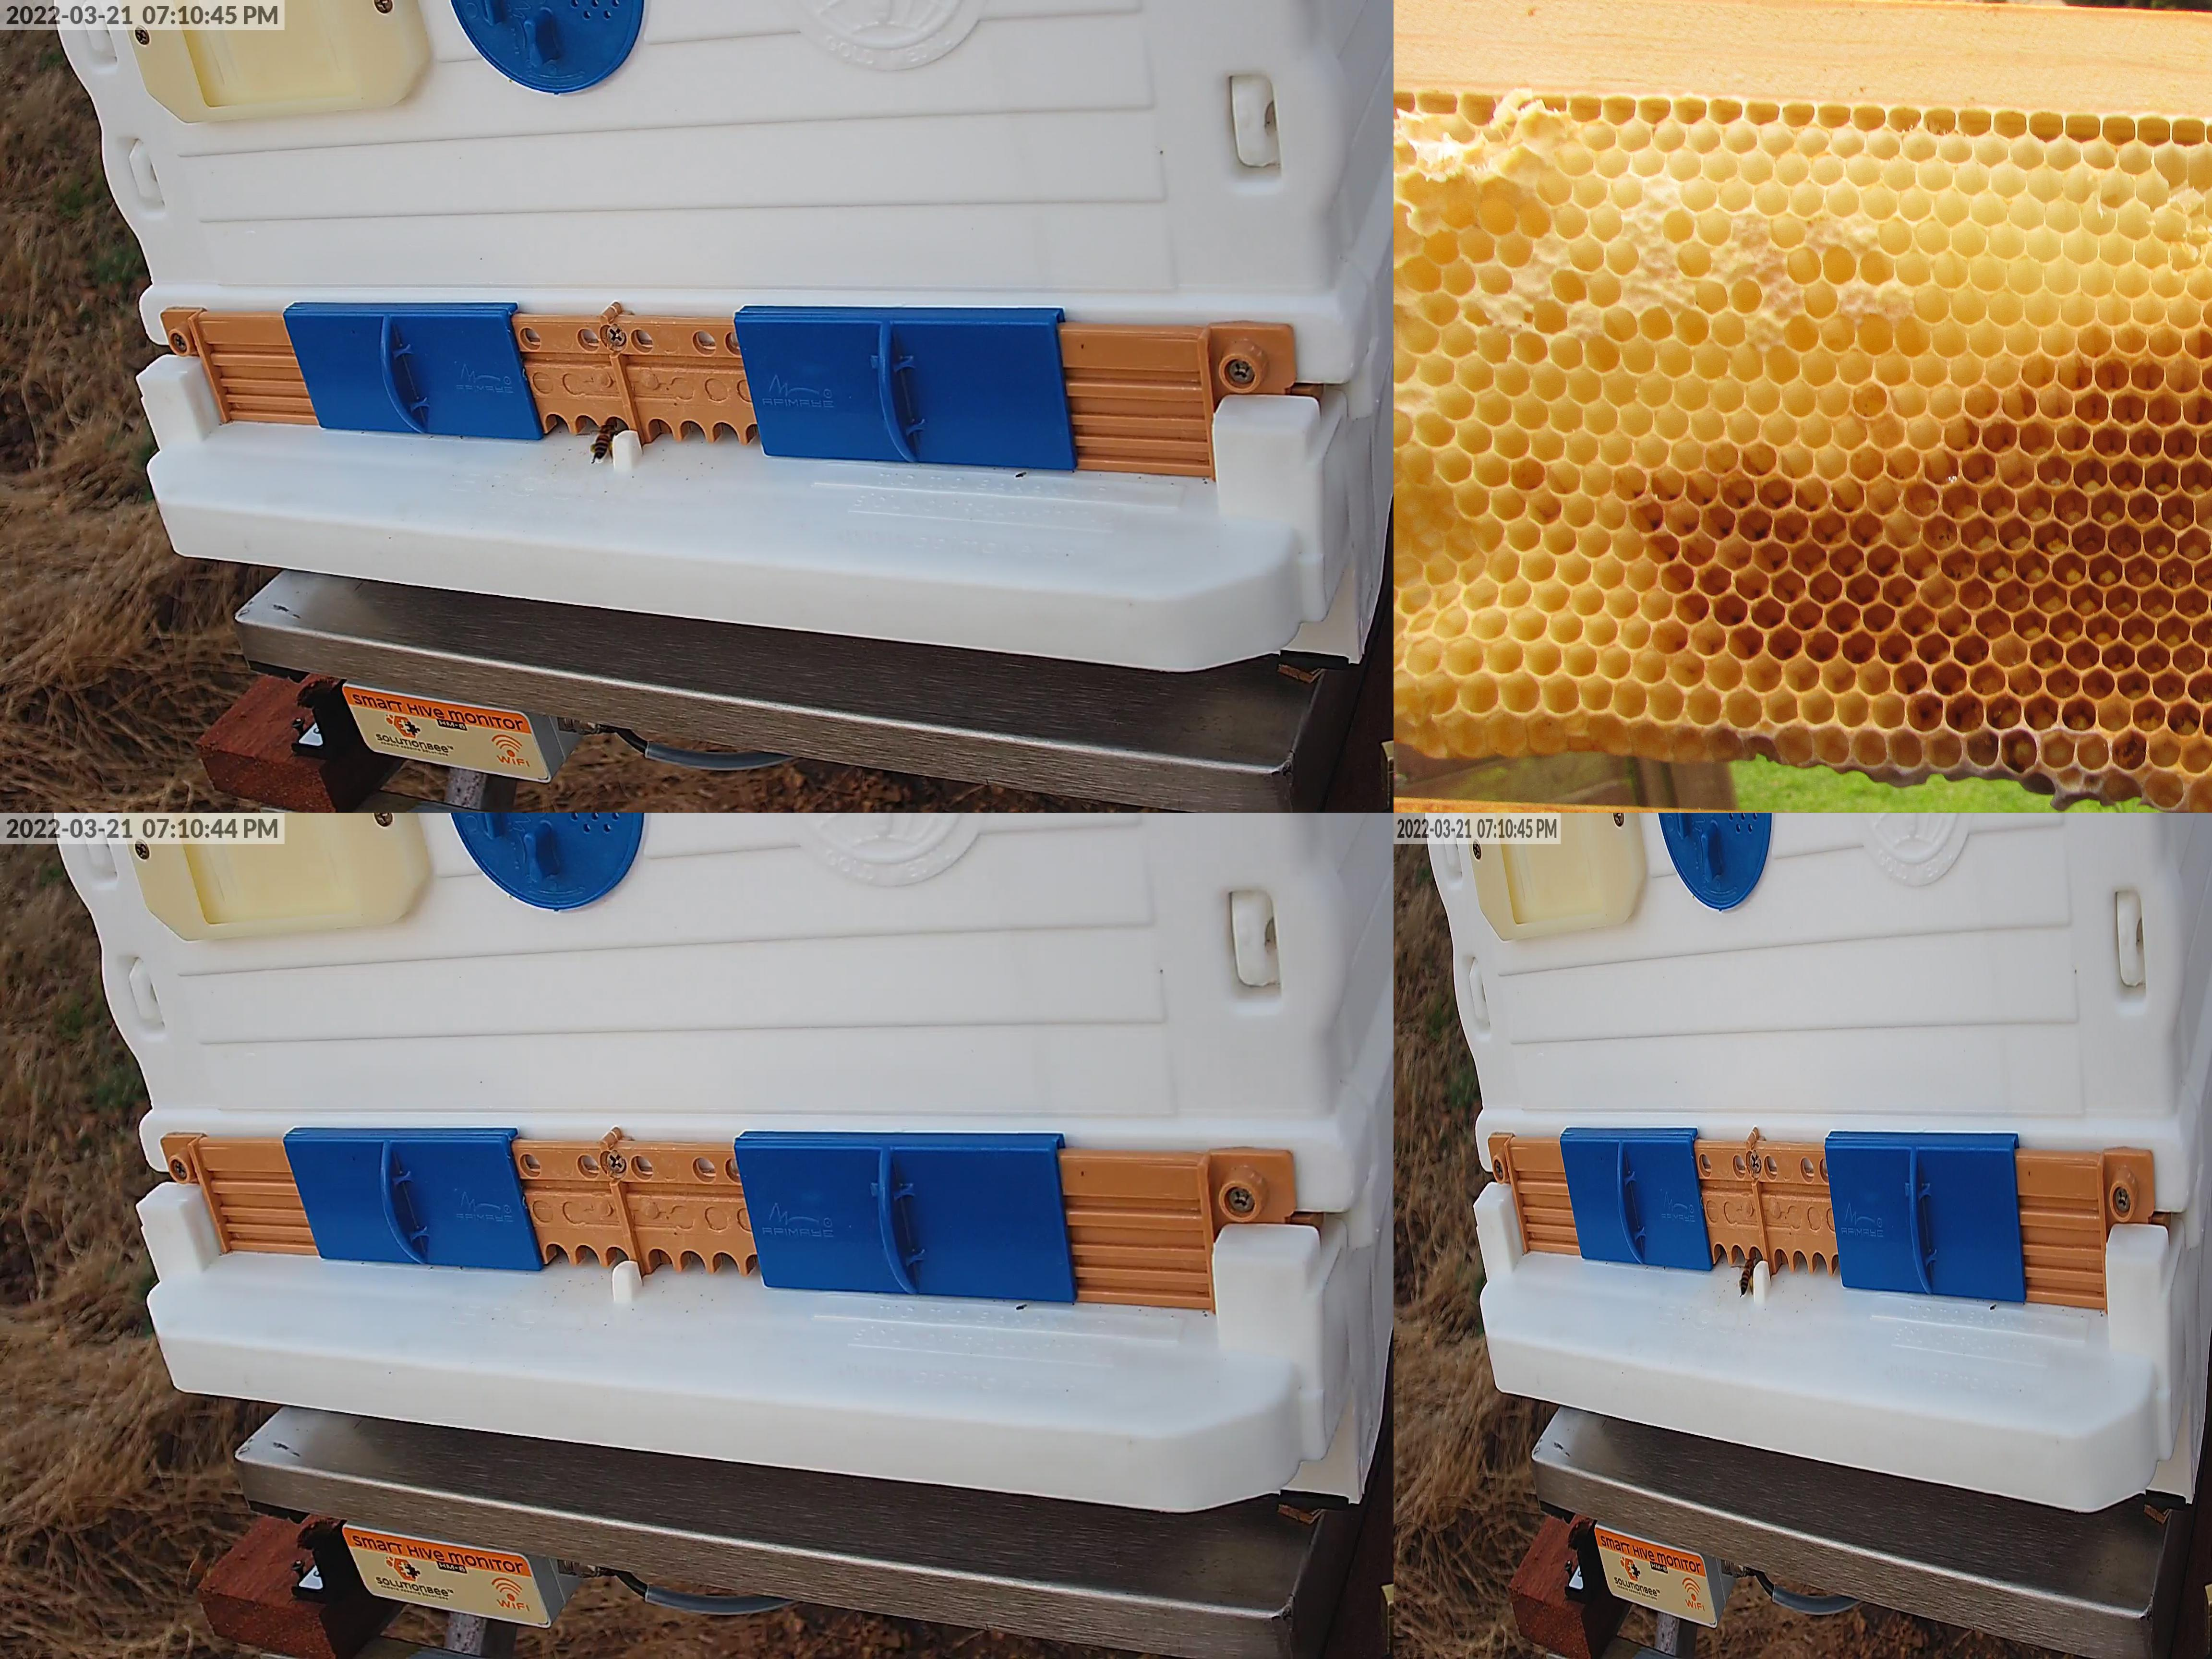pollenbee: (590, 425, 617, 464), (1740, 1260, 1754, 1295)
